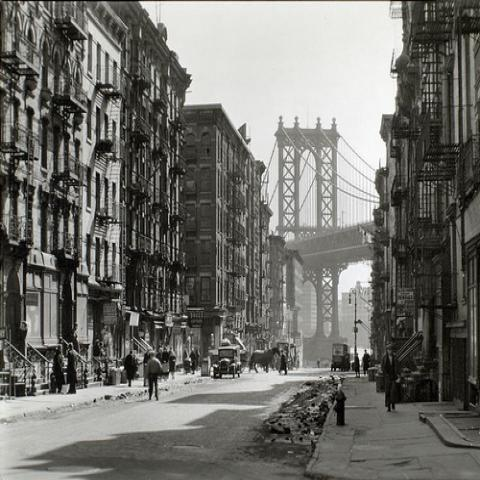truck: (212, 344, 242, 378), (330, 343, 352, 372)
